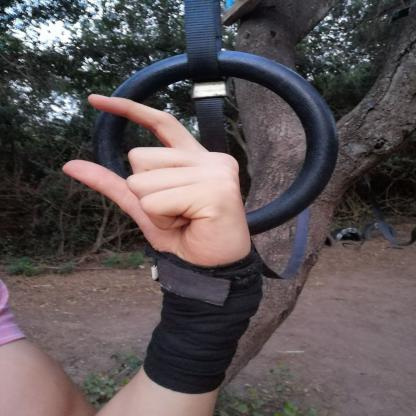DELL: (48, 85, 266, 280)
